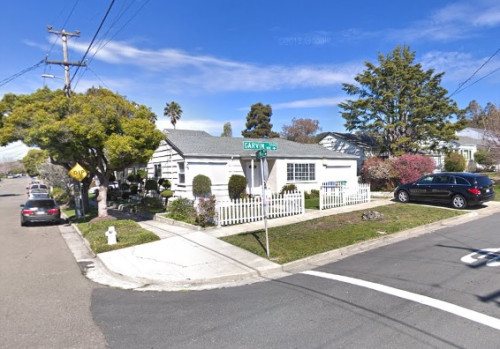tree: (1, 83, 167, 220), (338, 40, 467, 193)
utility_pole: (37, 17, 91, 84)
